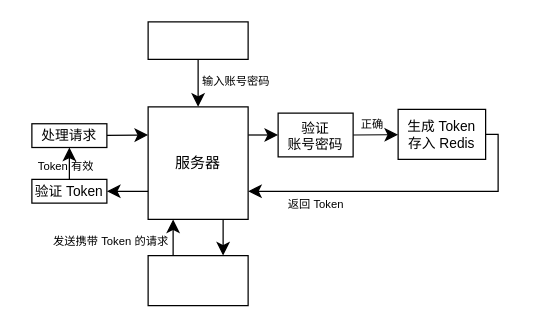
Image size: 533x328. Some labels were removed from this diagram. Each missing label, with the centre of its shape:
"客户端 保存 Token" belongs at (197,280).
"用户" belongs at (197,40).
